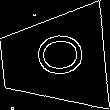O_W: (24, 35, 83, 83)
